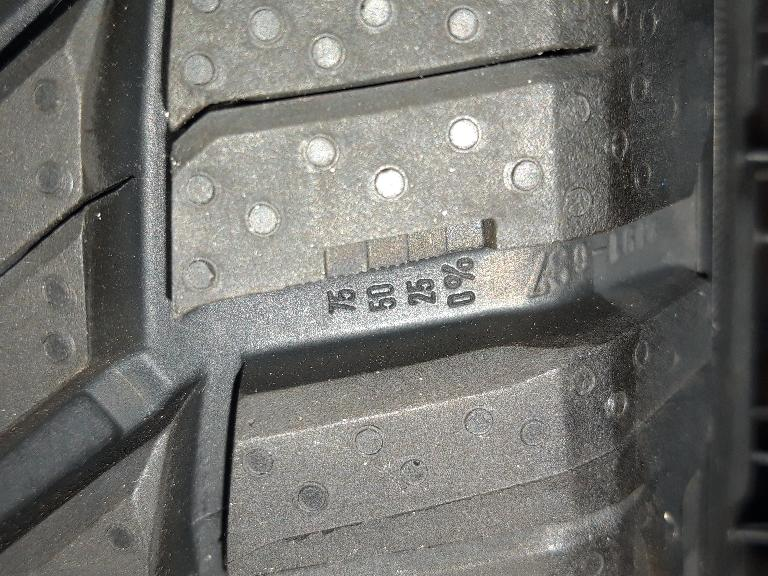temoin:100: (283, 211, 509, 305)
